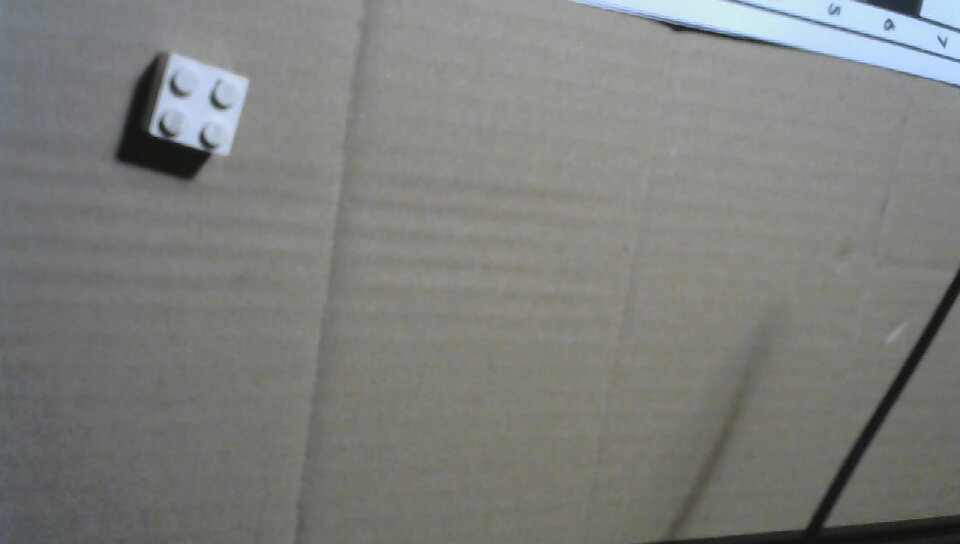wp: (113, 44, 263, 184)
